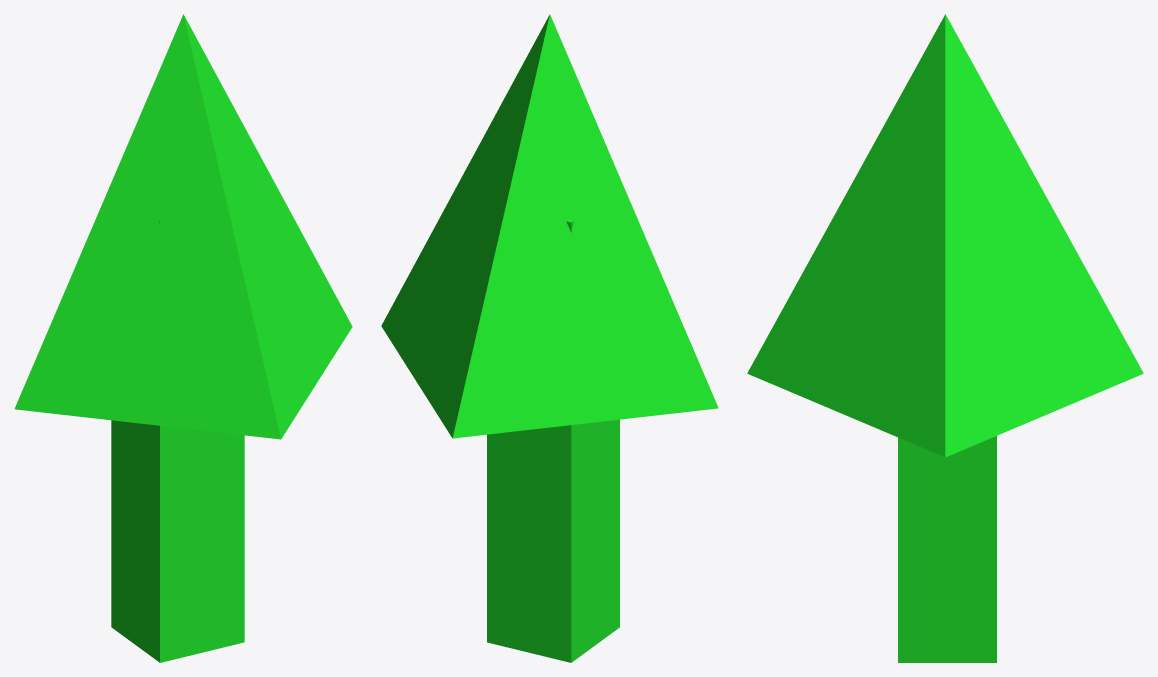
File: pine-green-low.glb
3 renders of one model, left to right at view 1: azimuth 30°, elevation 25°; view 2: azimuth 150°, elevation 25°; view 3: azimuth 270°, elevation 25°, orthographic.
Visible parts, largest first — view 1: 立方体; view 2: 立方体; view 3: 立方体.
Part boxes in pixels (<box>): 立方体: <box>14,14,352,662</box>; 立方体: <box>381,14,718,662</box>; 立方体: <box>747,14,1143,662</box>.
Size of the model in its own units: 2.5 by 4.38 by 2.5.
